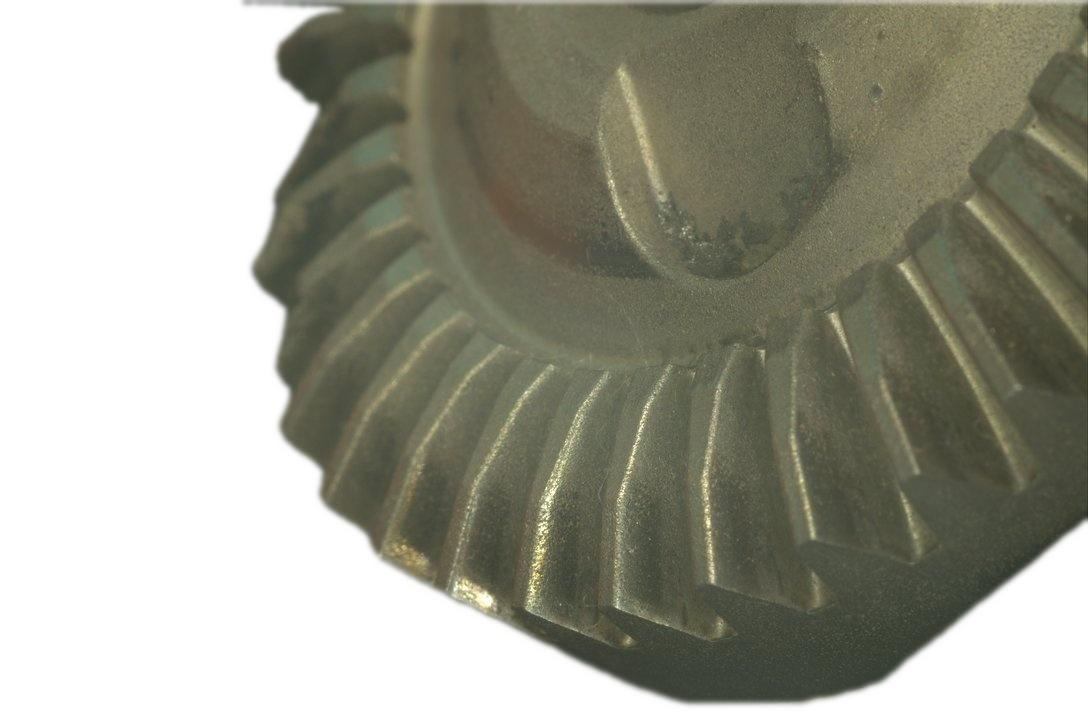defect: (277, 16, 346, 101), (276, 115, 334, 200), (255, 202, 307, 280), (277, 306, 316, 381), (451, 577, 497, 613), (383, 541, 432, 574)
